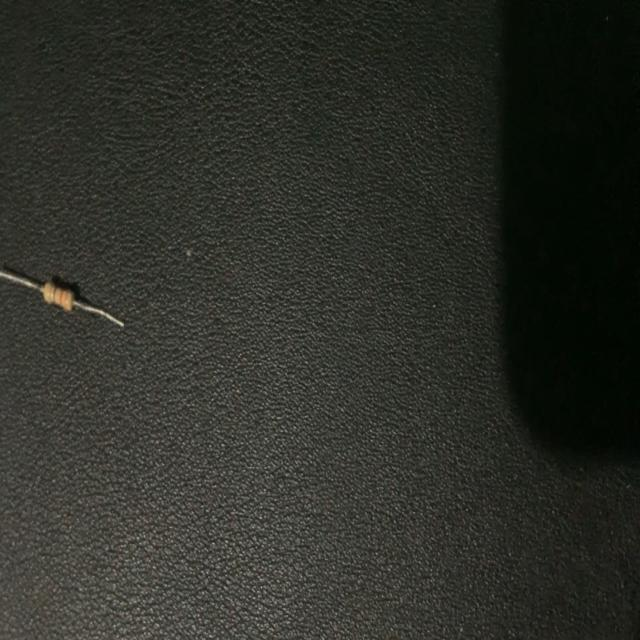resistor: (1, 246, 129, 344)
